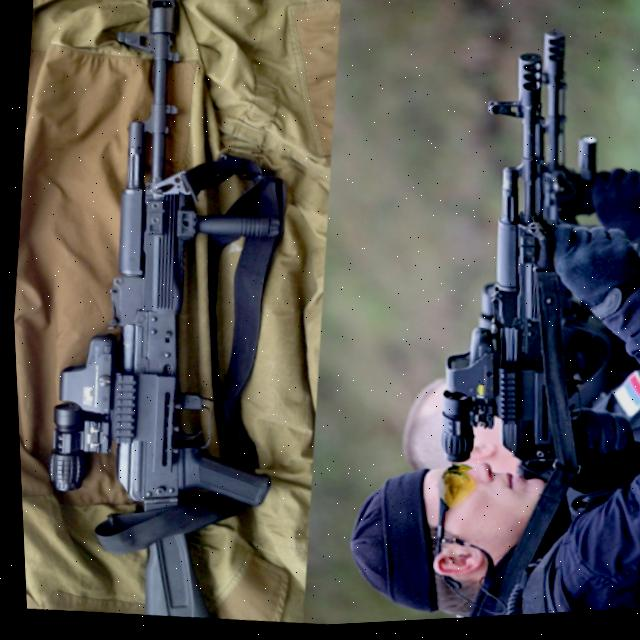firearm: (9, 0, 312, 631), (414, 48, 596, 489)
